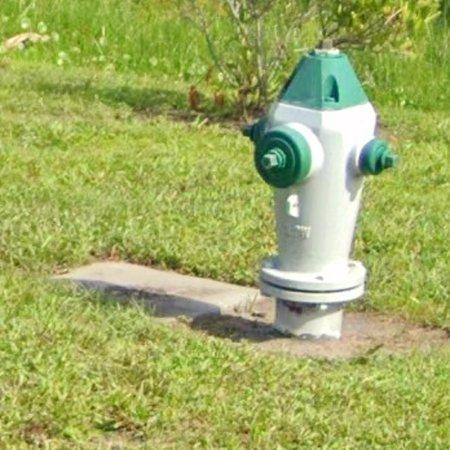a fire hydrant: (246, 49, 399, 338)
